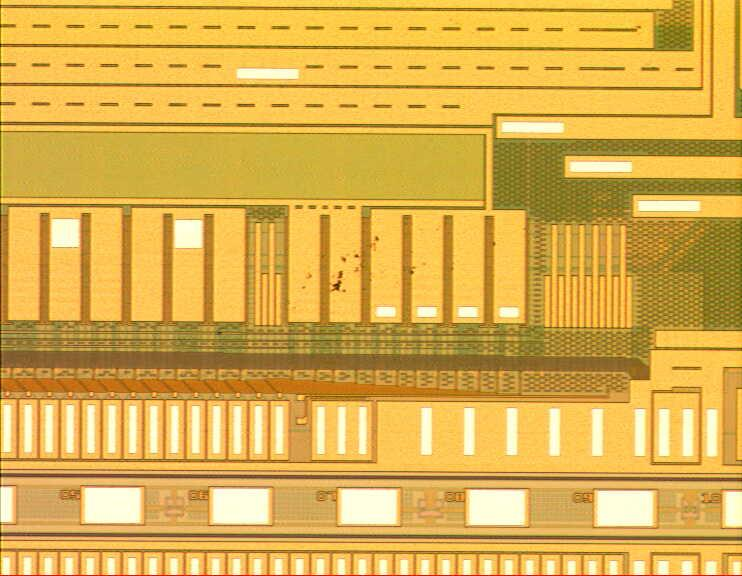PO CONTAMINATION: (206, 216, 506, 449)
